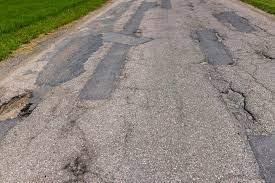pothole: (218, 86, 259, 130), (57, 153, 111, 183), (1, 88, 33, 121)
